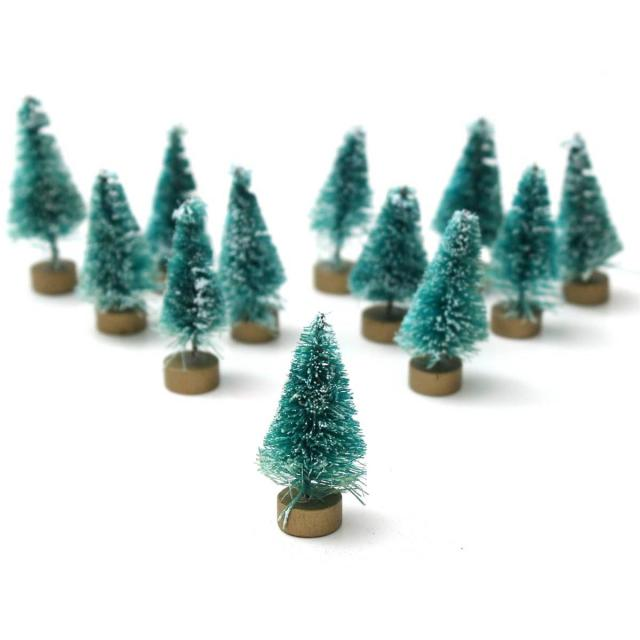Christmas-tree: (262, 309, 396, 569)
